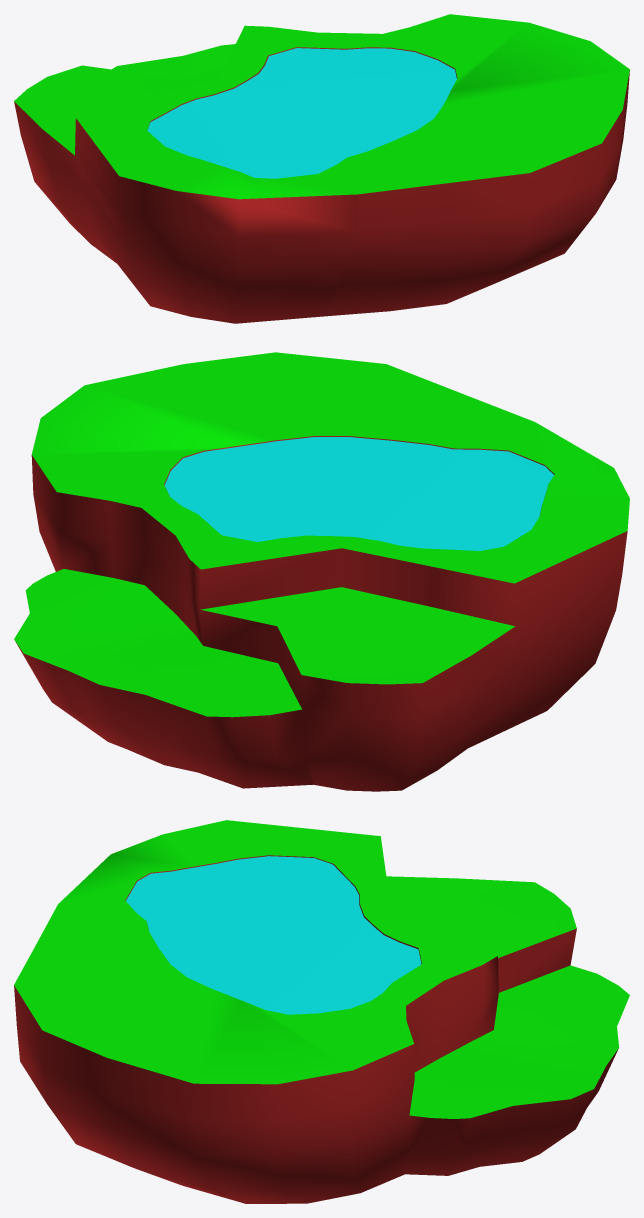
File: sm_StatueIsland.fbx
The picture shows the model from 3 angles, top to bottom: view 1: azimuth 30°, elevation 25°; view 2: azimuth 150°, elevation 25°; view 3: azimuth 270°, elevation 25°; orthographic projection. The views are drawn at different scales.
Visible parts, largest first — view 1: sm_StatueIsland, sm_IslandWater; view 2: sm_StatueIsland, sm_IslandWater; view 3: sm_StatueIsland, sm_IslandWater.
Boxes of the visible parts, x1,y1,x2,y2 form: sm_StatueIsland: (14,14,629,323); sm_IslandWater: (147,48,456,178); sm_StatueIsland: (14,352,629,791); sm_IslandWater: (164,437,553,550); sm_StatueIsland: (14,820,629,1203); sm_IslandWater: (126,856,421,1014).
Size of the model in its own units: 10358 by 3143 by 10357.
